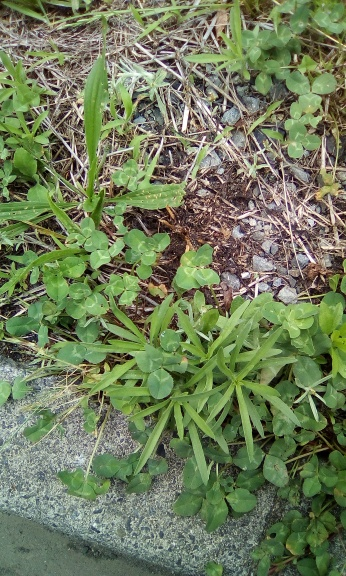4leaf: (173, 242, 221, 290)
